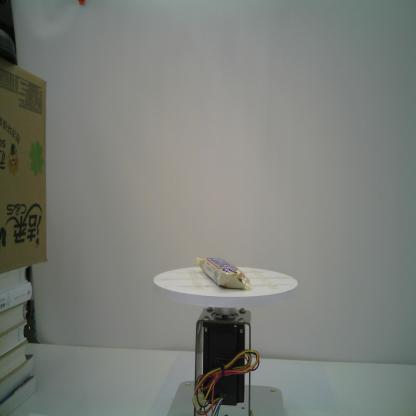Chocolate: (196, 253, 252, 292)
